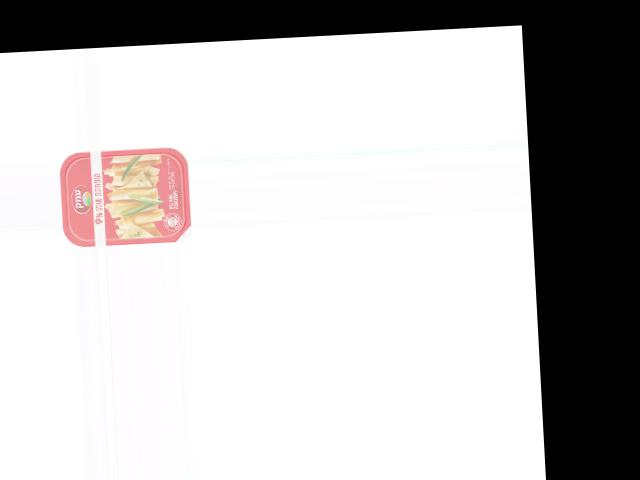cheese: (58, 145, 192, 247)
